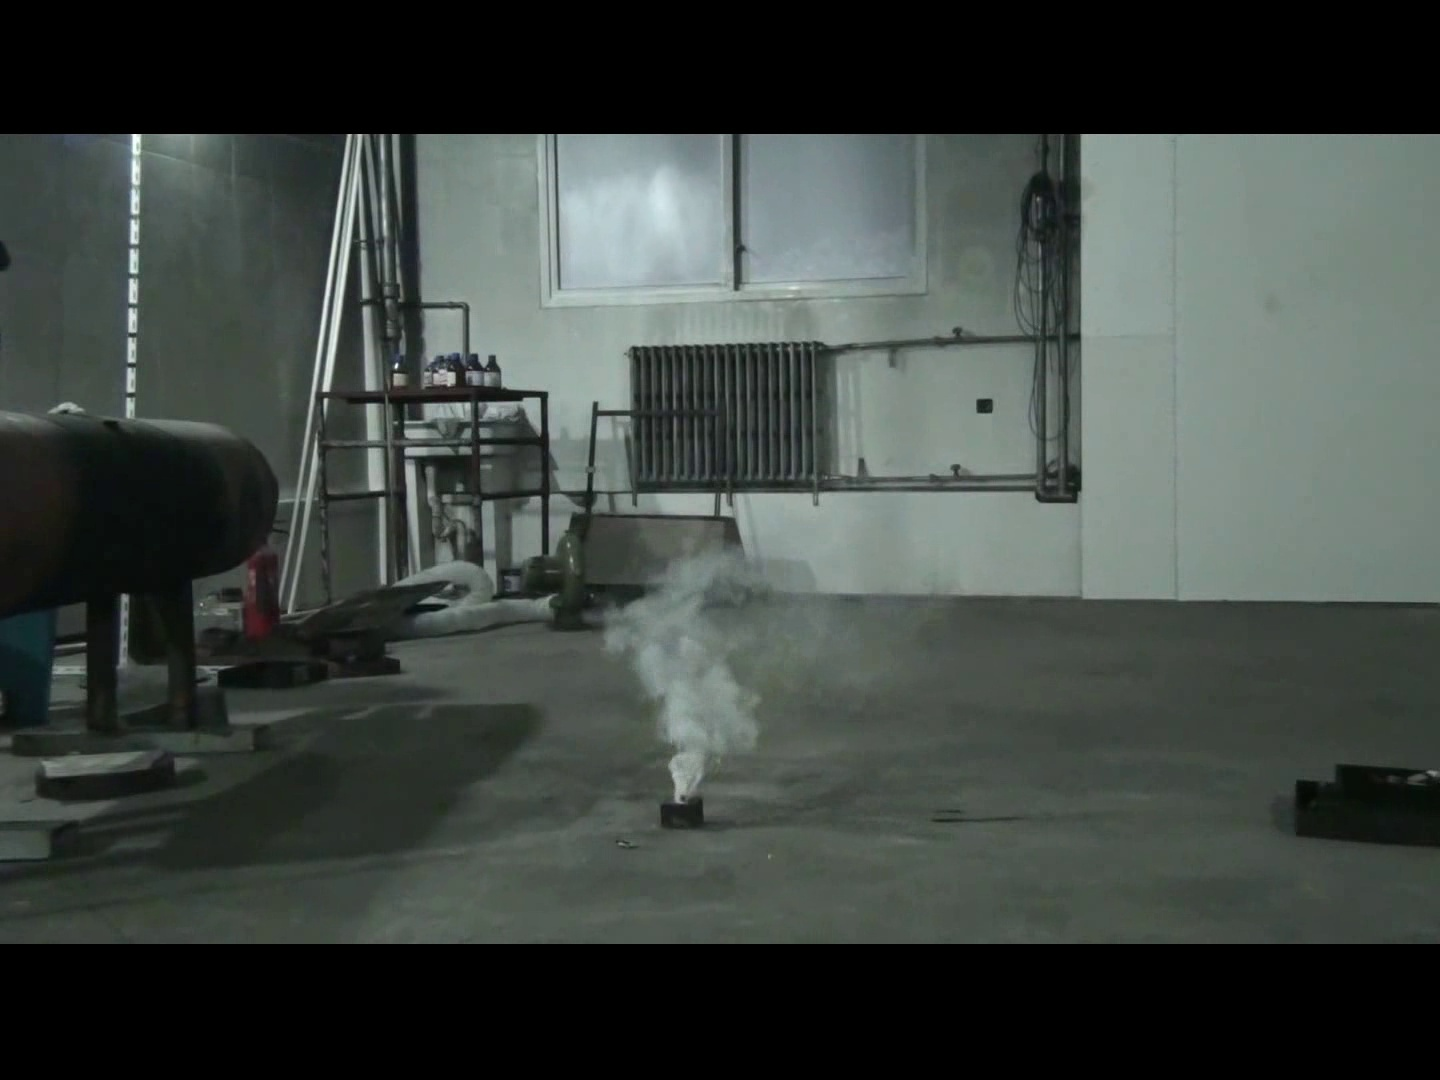smoke: (588, 539, 950, 803)
